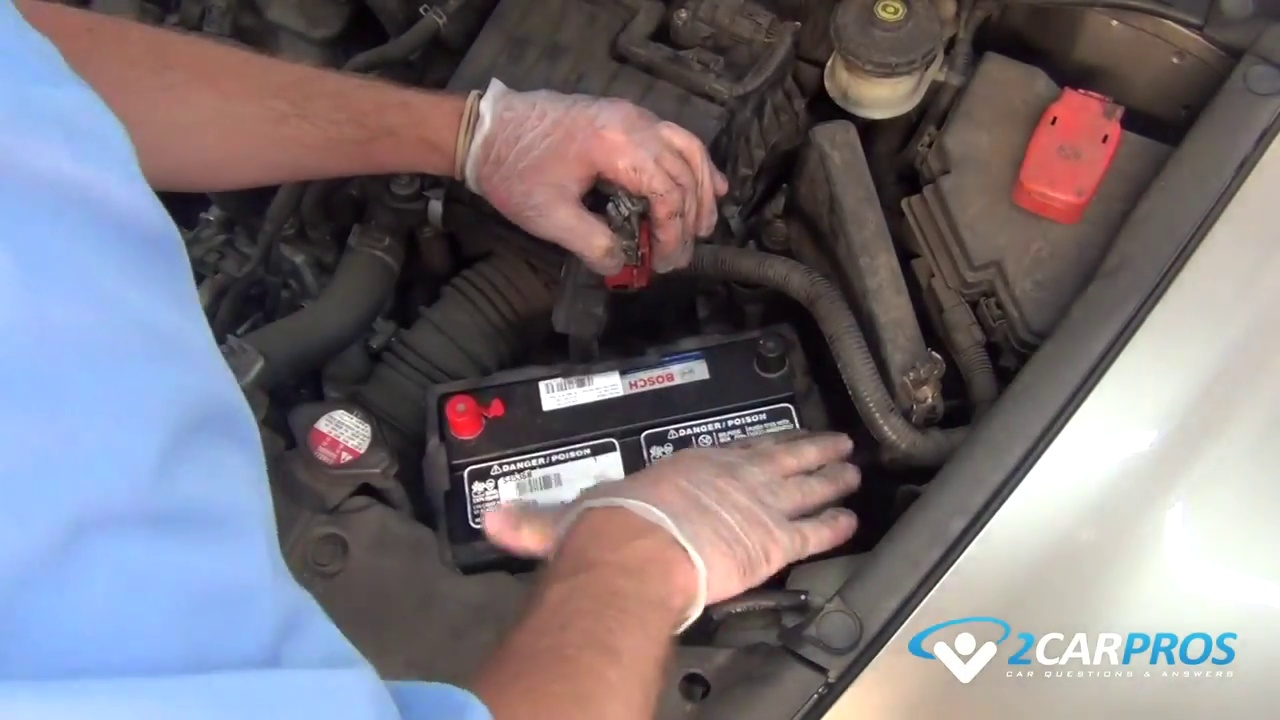battery: (425, 332, 822, 586)
neg_disconnected: (715, 326, 804, 395)
pos_disconnected: (422, 367, 523, 452)
